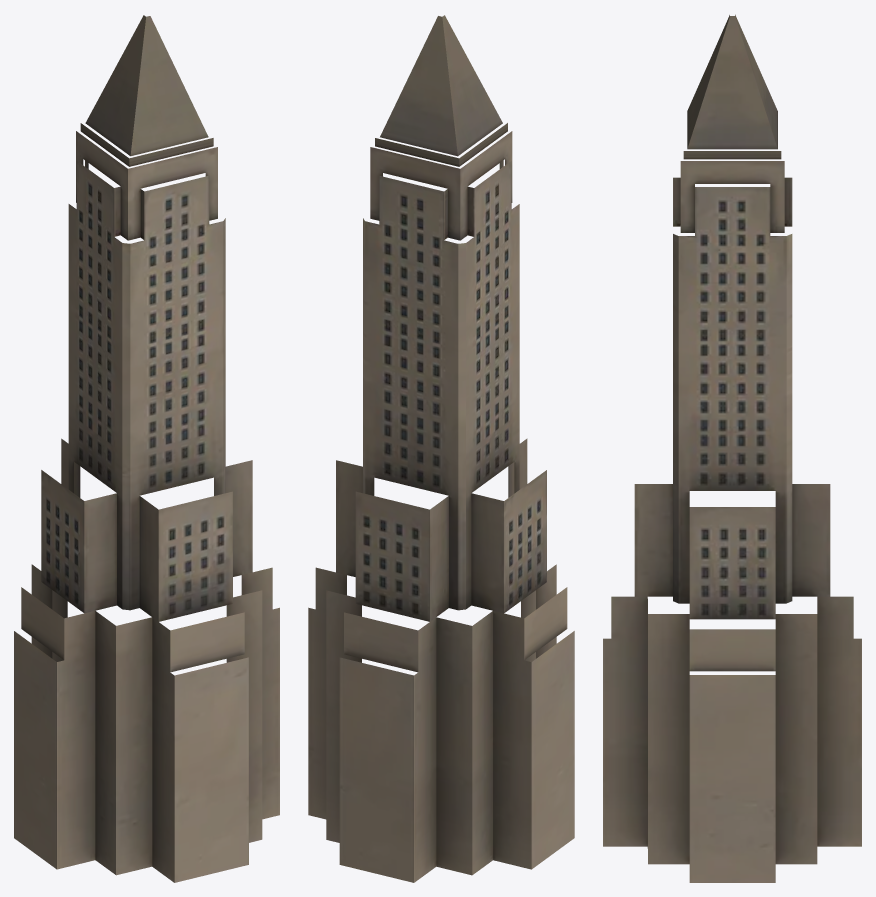
3 views of the same model, side by side, from view 1: azimuth 30°, elevation 25°; view 2: azimuth 150°, elevation 25°; view 3: azimuth 270°, elevation 25° (orthographic).
Parts seen in each view (by area): view 1: body0_model0_lod0_mesh0; view 2: body0_model0_lod0_mesh0; view 3: body0_model0_lod0_mesh0.
Boxes of the visible parts, x1,y1,x2,y2 form: body0_model0_lod0_mesh0: (14,15,279,882); body0_model0_lod0_mesh0: (308,15,574,882); body0_model0_lod0_mesh0: (603,14,861,882).
Bounding box in the file's own units: 158 × 548 × 158.
Materials: 1 (1 with a texture image).
